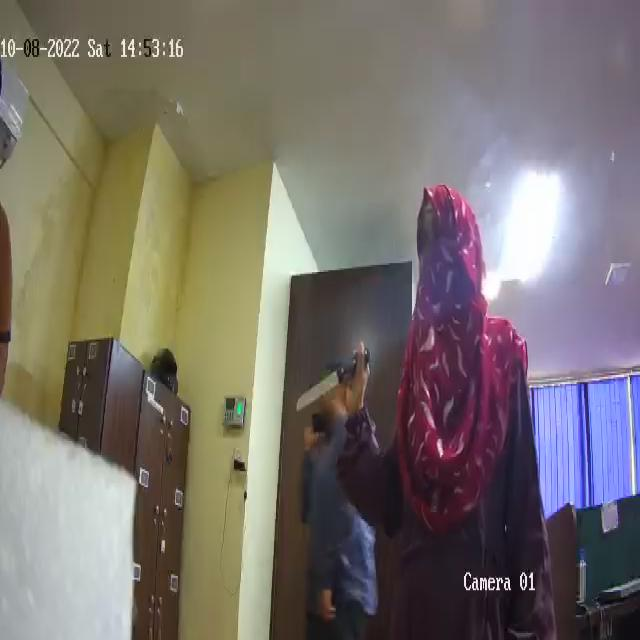Knife: (297, 343, 368, 413)
